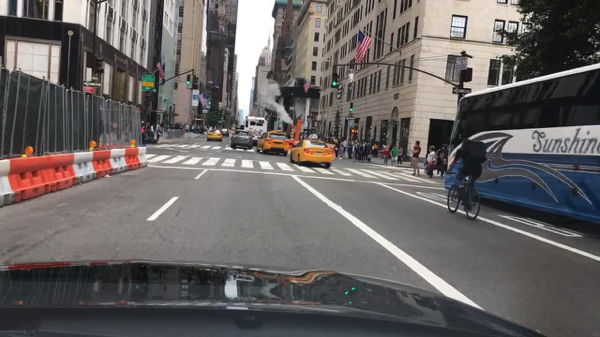bike: (445, 173, 481, 220)
bus: (444, 61, 600, 226), (246, 117, 266, 141)
car: (289, 134, 335, 167), (256, 130, 289, 156), (230, 130, 253, 150), (207, 129, 222, 141), (219, 128, 228, 136)
person: (425, 146, 436, 178), (410, 141, 420, 176), (435, 148, 446, 178), (140, 121, 147, 147), (350, 140, 358, 162), (340, 135, 347, 159), (389, 145, 396, 167), (380, 147, 389, 164), (333, 136, 339, 159), (373, 140, 379, 158), (359, 143, 365, 161), (367, 143, 372, 160), (348, 139, 351, 160), (398, 145, 401, 165), (150, 124, 155, 133), (159, 125, 164, 134), (146, 121, 150, 132), (328, 136, 333, 144), (190, 126, 195, 133), (200, 125, 204, 133), (179, 124, 184, 130), (185, 124, 189, 131), (169, 124, 174, 129), (174, 123, 178, 129), (196, 125, 199, 133)
rider: (445, 138, 487, 209)
traffic light: (93, 56, 103, 73), (191, 75, 199, 90), (331, 74, 338, 88), (145, 94, 151, 108), (186, 74, 190, 86), (349, 102, 353, 113), (351, 128, 355, 134)
traffic sign: (141, 75, 155, 91), (83, 82, 101, 87), (82, 88, 94, 94), (453, 89, 471, 93), (90, 75, 100, 81), (345, 117, 354, 121), (347, 124, 357, 127), (202, 109, 207, 114)
